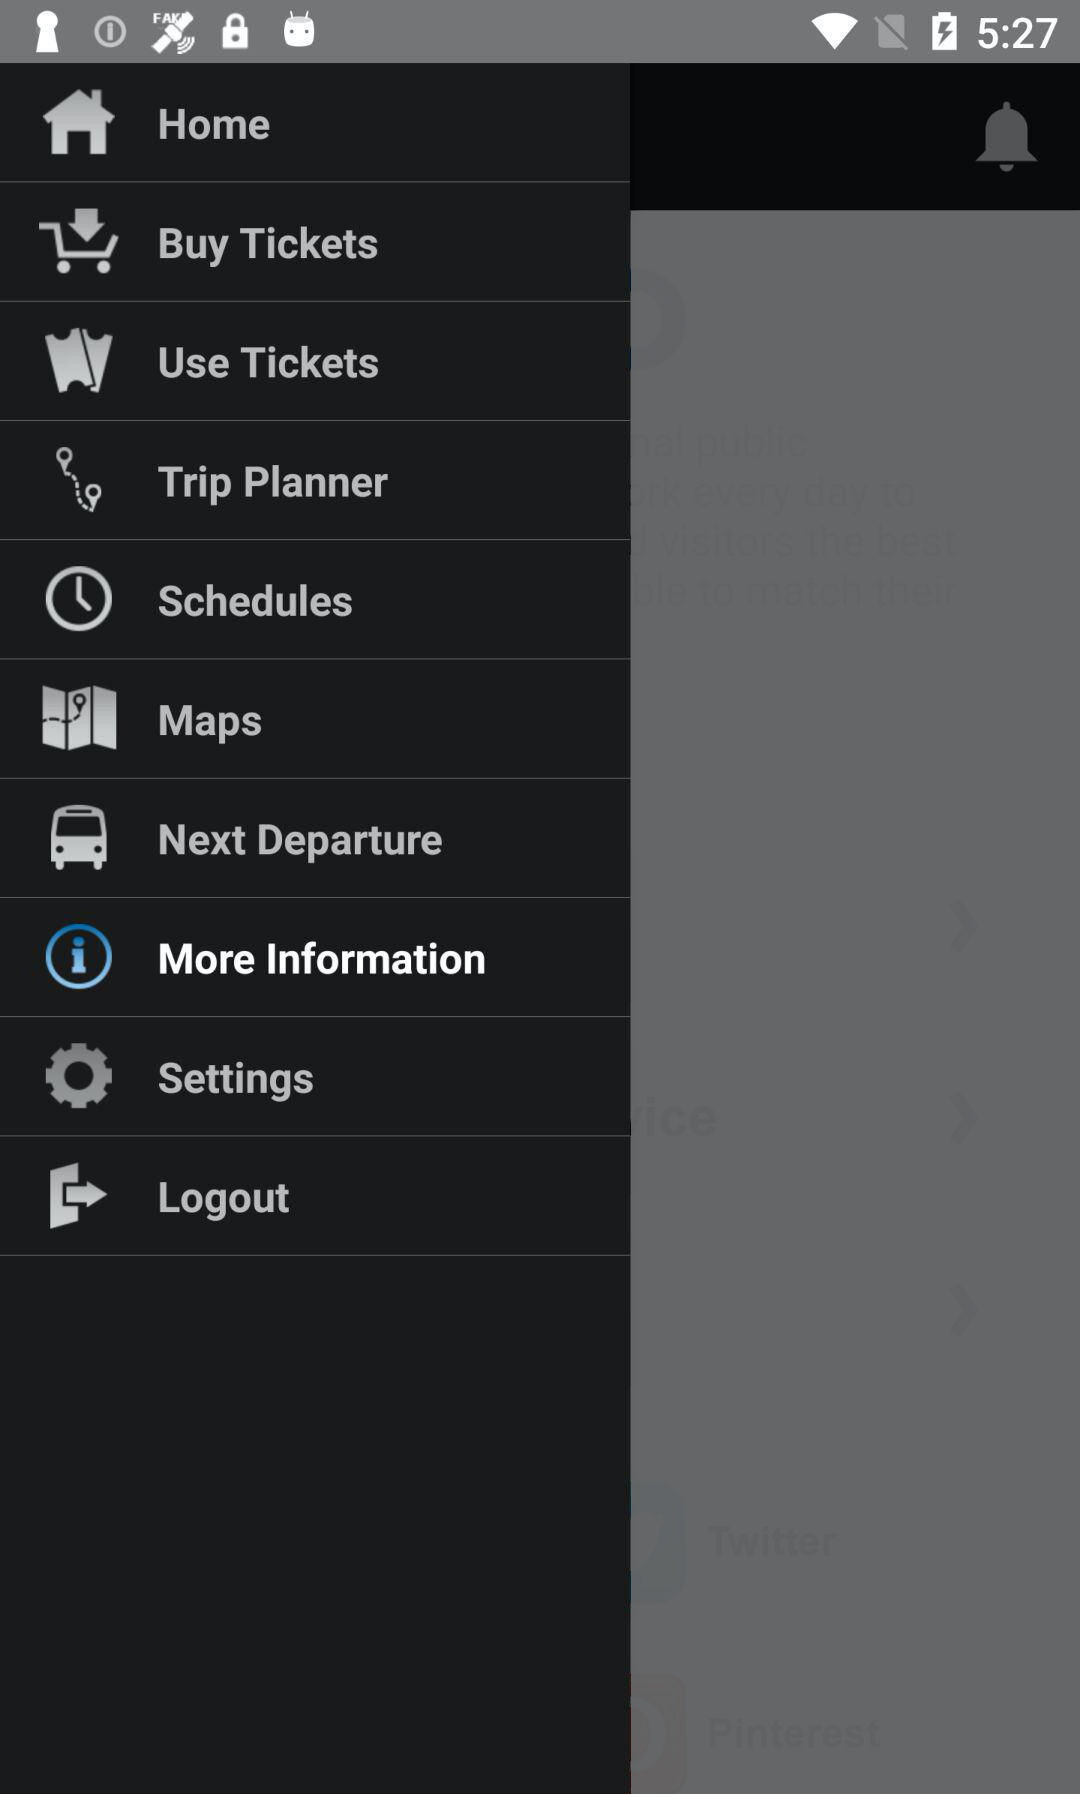Drawer: (1, 64, 630, 1794)
Icon: (38, 208, 120, 276), (44, 88, 117, 158), (42, 686, 118, 752), (45, 923, 114, 991), (45, 327, 114, 395), (46, 566, 114, 633), (976, 103, 1038, 176), (46, 1042, 113, 1108), (50, 1161, 109, 1229), (55, 447, 102, 514)
Image: (51, 803, 108, 871)
Text: (160, 941, 486, 976), (160, 823, 443, 864), (158, 465, 389, 507), (160, 226, 379, 269), (160, 346, 379, 381), (159, 584, 354, 619), (159, 1062, 315, 1105), (160, 1181, 291, 1222), (160, 705, 263, 746), (160, 108, 272, 141)
UpperTaskBar: (1, 1, 1080, 64)
